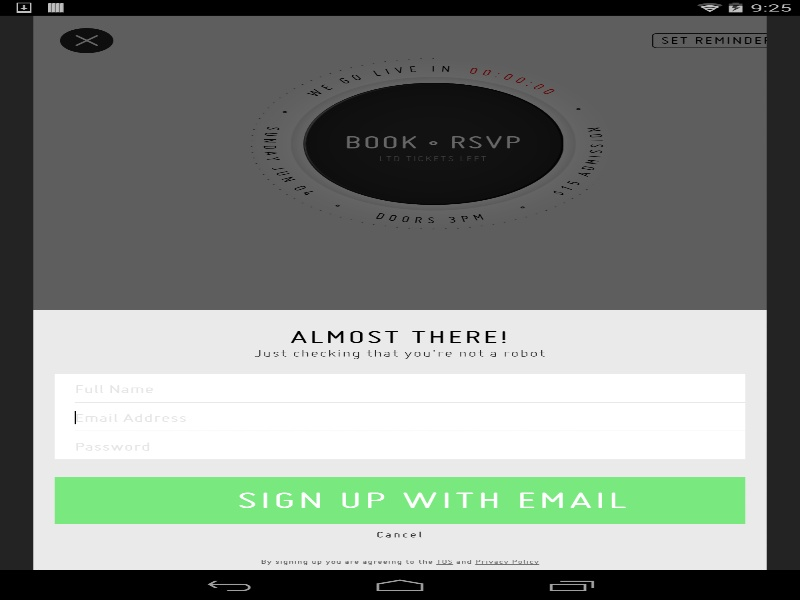Input: (54, 375, 745, 400), (54, 404, 745, 428), (54, 433, 745, 457)
